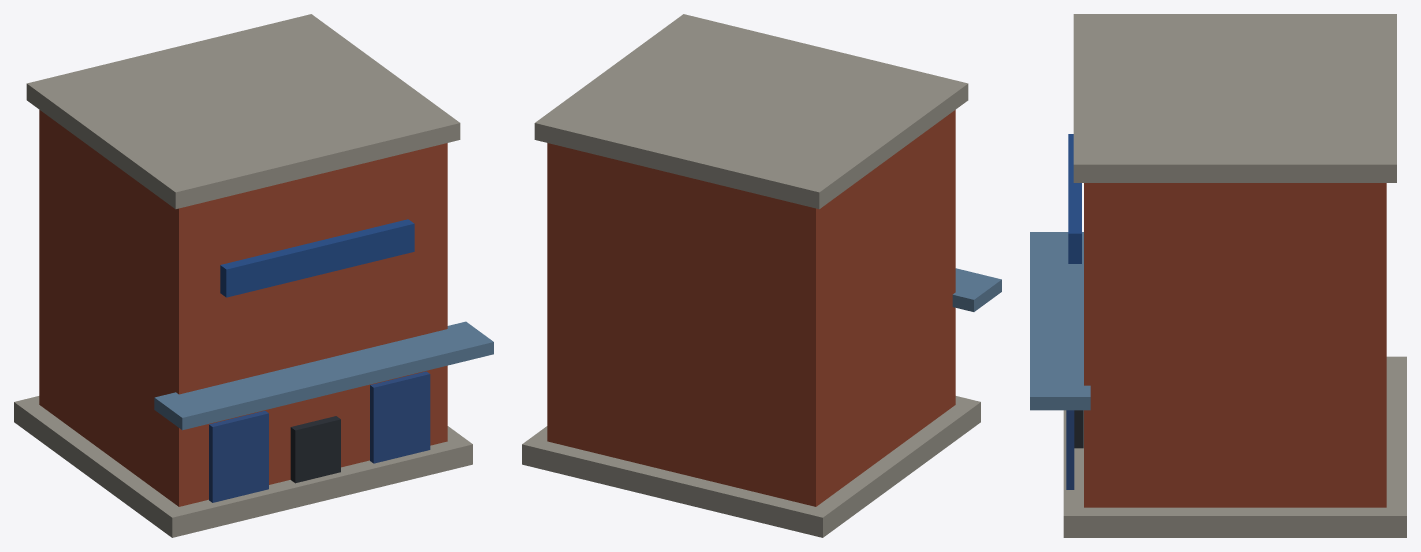
File: bld_commercial_a05_lod1.glb
3 renders of one model, left to right at view 1: azimuth 30°, elevation 25°; view 2: azimuth 150°, elevation 25°; view 3: azimuth 270°, elevation 25°, orthographic. The views are drawn at different scales.
Parts seen in each view (by area): view 1: body; view 2: body; view 3: body.
Part boxes in pixels (x1=…): body: x1=14, y1=14, x2=493, y2=537; body: x1=522, y1=14, x2=1001, y2=537; body: x1=1030, y1=14, x2=1406, y2=537.
Bounding box in the file's own units: 5.8 × 6.05 × 5.6.
